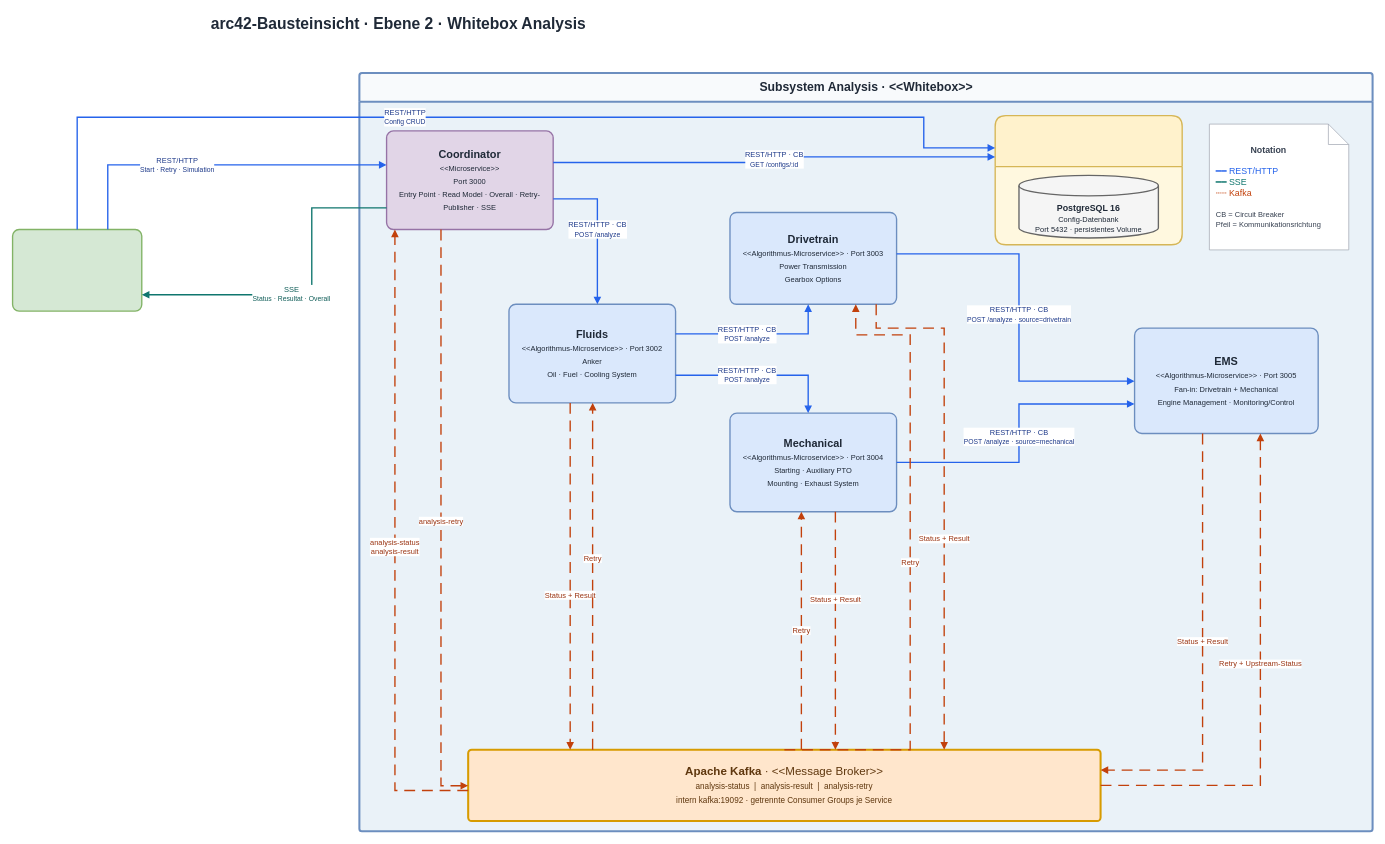
Image size: 1385x844. Some labels were removed from this diagram. Each missing label, with the box of its shape:
Config-Service <<Microservice>> · Port 3001 CRUD für Motorkonfigurationen: (994, 115, 1183, 245)
React-UI <<Frontend>> localhost (Vite): (12, 228, 142, 311)
